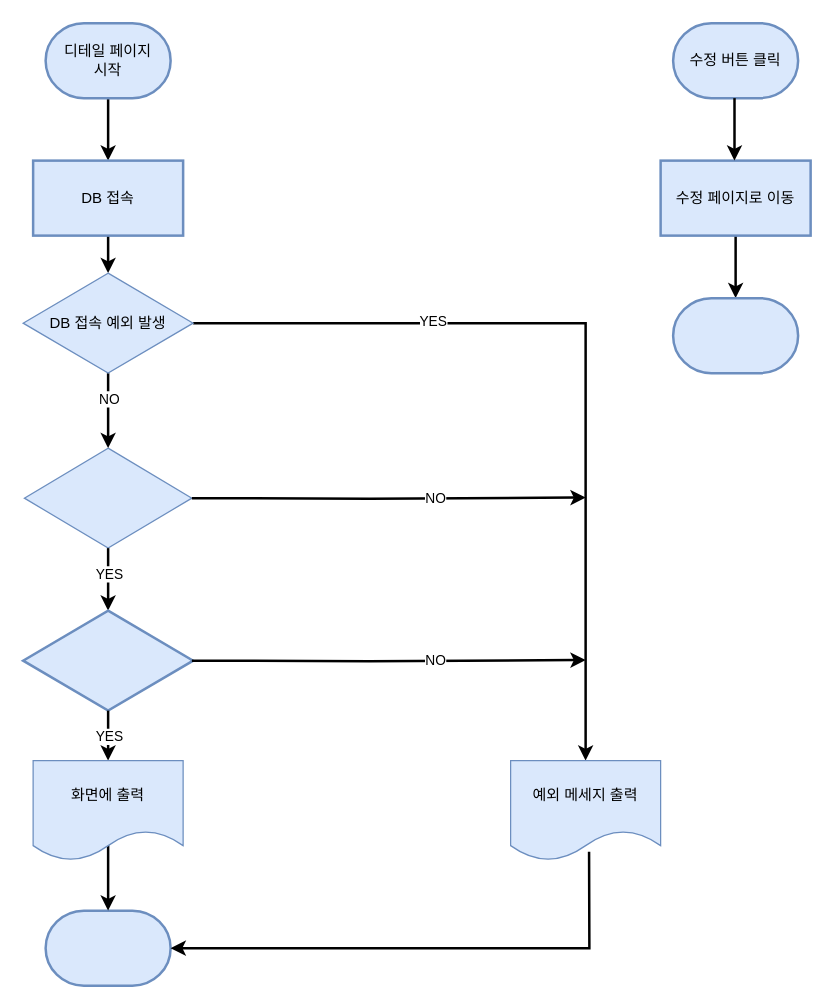
The diagram is 833 pixels wide and 1008 high, and some of its shapes have lost their labels. The centre of each missing label's shape, as x and y in pixels:
"게시글 정보 획득" goes at [107,660].
"디테일 페이지 종료" goes at [107,947].
"처리 종료" goes at [735,335].
"파라미터 획득" goes at [107,497].
